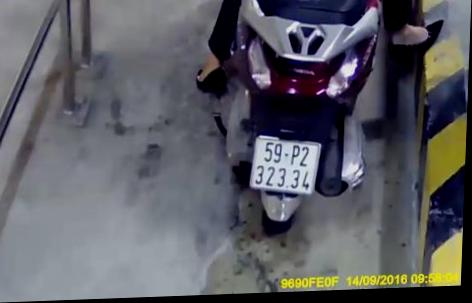License_Plate: (243, 129, 326, 207)
